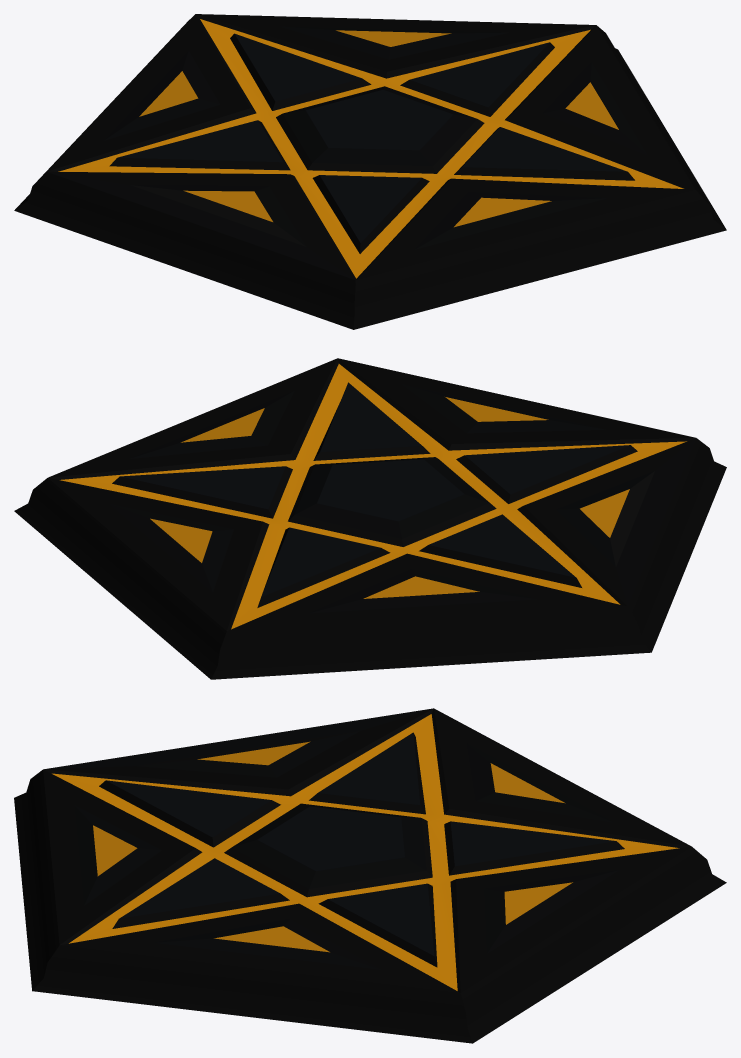
File: pentagram.fbx
3 views of the same model, one above another, from view 1: azimuth 30°, elevation 25°; view 2: azimuth 150°, elevation 25°; view 3: azimuth 270°, elevation 25° (orthographic). The views are drawn at different scales.
Parts seen in each view (by area): view 1: Cylinder001; view 2: Cylinder001; view 3: Cylinder001.
Part boxes in pixels (x1,y1,x2,y2): Cylinder001: [14, 14, 726, 329]; Cylinder001: [14, 358, 726, 679]; Cylinder001: [14, 708, 726, 1043].
Size of the model in its own units: 144 by 10.88 by 138.
